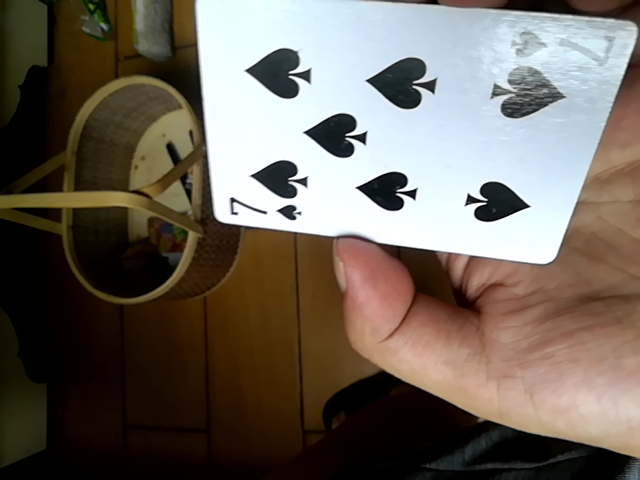ht 7: (193, 0, 631, 272)
